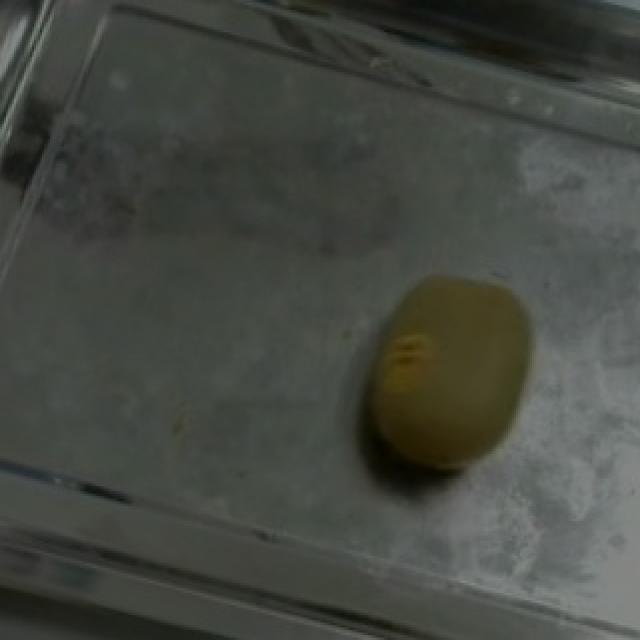Fruit: (322, 241, 566, 514)
